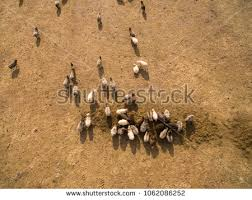sheep: (75, 115, 86, 136), (68, 62, 79, 81), (122, 92, 138, 105), (5, 58, 18, 71), (136, 1, 149, 14), (108, 123, 118, 139), (137, 60, 151, 71), (84, 88, 95, 102), (94, 10, 104, 25), (128, 62, 140, 74), (129, 35, 140, 48), (103, 103, 113, 117), (115, 105, 129, 115), (94, 54, 103, 69), (158, 126, 167, 141), (125, 124, 133, 140), (99, 76, 109, 88), (84, 111, 92, 126), (183, 114, 195, 124), (127, 25, 137, 37), (176, 117, 183, 134), (70, 84, 78, 98), (150, 107, 158, 121), (142, 128, 150, 142), (141, 116, 148, 132), (31, 25, 39, 38), (51, 1, 62, 10), (162, 107, 170, 118), (62, 75, 68, 88)
